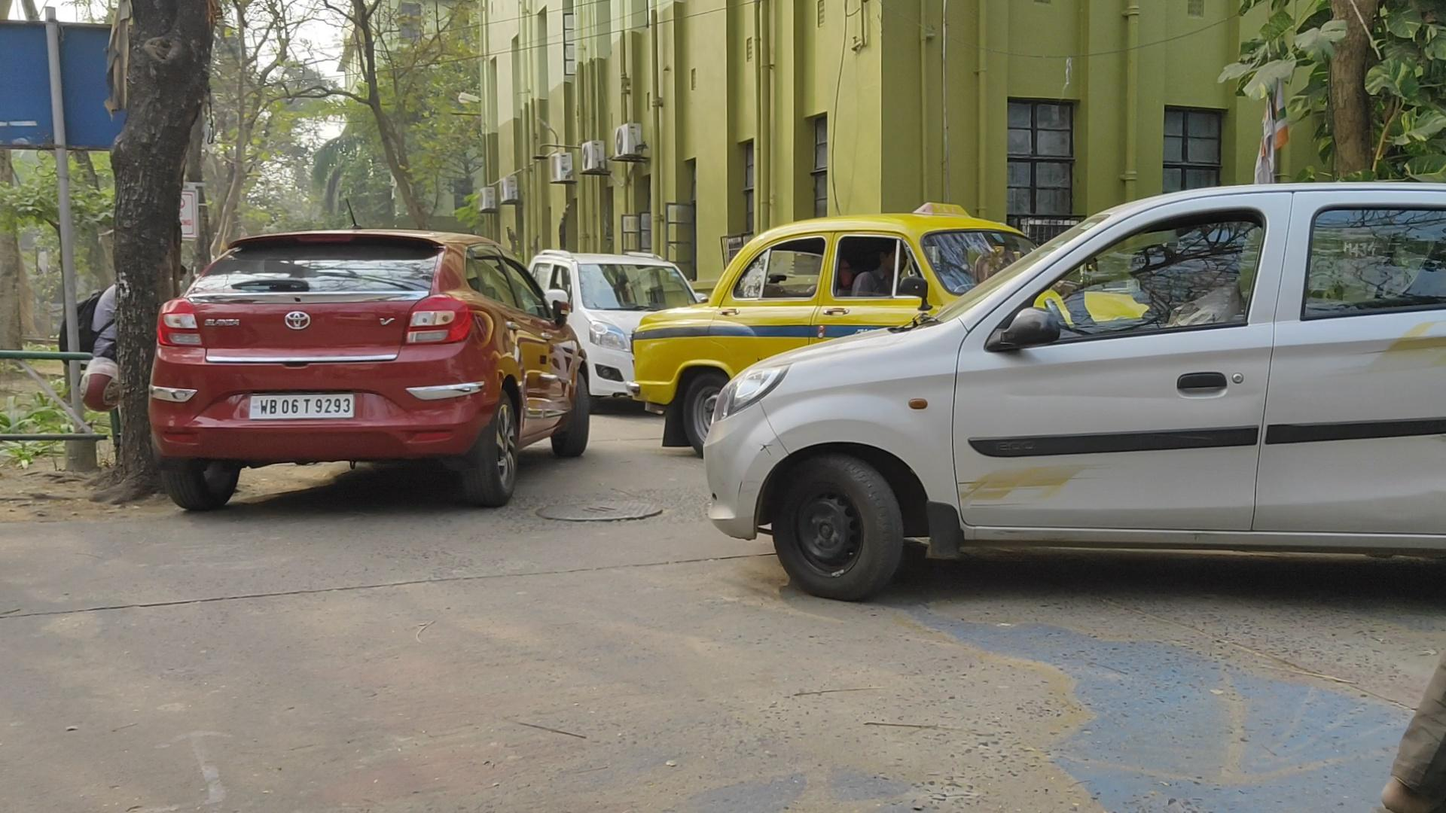bike: (148, 230, 590, 510)
car: (702, 181, 1446, 602), (628, 201, 1169, 465), (523, 247, 724, 420)
